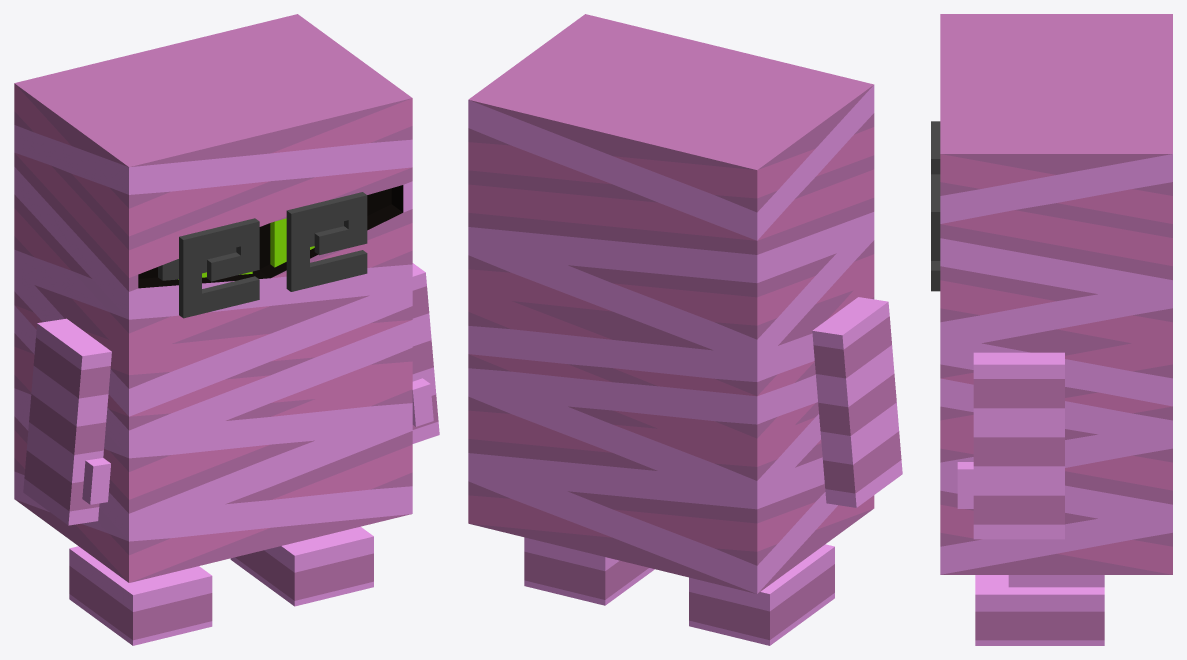
3 renders of one model, left to right at view 1: azimuth 30°, elevation 25°; view 2: azimuth 150°, elevation 25°; view 3: azimuth 270°, elevation 25°, orthographic.
Parts seen in each view (by area): view 1: Ch_45, Ch_45_Hand_L, Ch_45_Leg_L, Ch_45_Leg_R, Ch_45_Eye_03_R, Ch_45_Eye_03_L, Ch_45_Hand_R; view 2: Ch_45, Ch_45_Hand_L, Ch_45_Leg_L, Ch_45_Leg_R; view 3: Ch_45, Ch_45_Hand_R, Ch_45_Leg_R, Ch_45_Eye_03_R, Ch_45_Eye_03_L.
Part boxes in pixels (left/top/right/bottom): Ch_45: left=14, top=14, right=412, bottom=582; Ch_45_Hand_L: left=23, top=318, right=111, bottom=525; Ch_45_Leg_L: left=69, top=546, right=212, bottom=645; Ch_45_Leg_R: left=230, top=526, right=373, bottom=606; Ch_45_Eye_03_R: left=286, top=192, right=367, bottom=291; Ch_45_Eye_03_L: left=179, top=218, right=259, bottom=318; Ch_45_Hand_R: left=412, top=263, right=439, bottom=443; Ch_45: left=468, top=14, right=874, bottom=593; Ch_45_Hand_L: left=812, top=297, right=902, bottom=507; Ch_45_Leg_L: left=689, top=544, right=834, bottom=645; Ch_45_Leg_R: left=524, top=537, right=654, bottom=605; Ch_45: left=940, top=14, right=1172, bottom=574; Ch_45_Hand_R: left=957, top=352, right=1064, bottom=539; Ch_45_Leg_R: left=975, top=575, right=1104, bottom=645; Ch_45_Eye_03_R: left=931, top=174, right=940, bottom=291; Ch_45_Eye_03_L: left=931, top=121, right=940, bottom=174.
Size of the model in its own units: 8.14 by 10.41 by 4.54.
